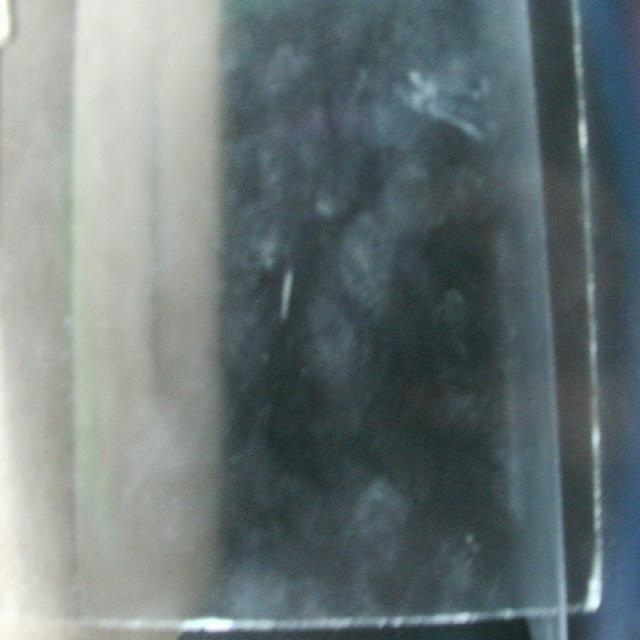edge_chip: (571, 552, 609, 625), (174, 603, 240, 635)
scratch: (268, 257, 304, 335)
